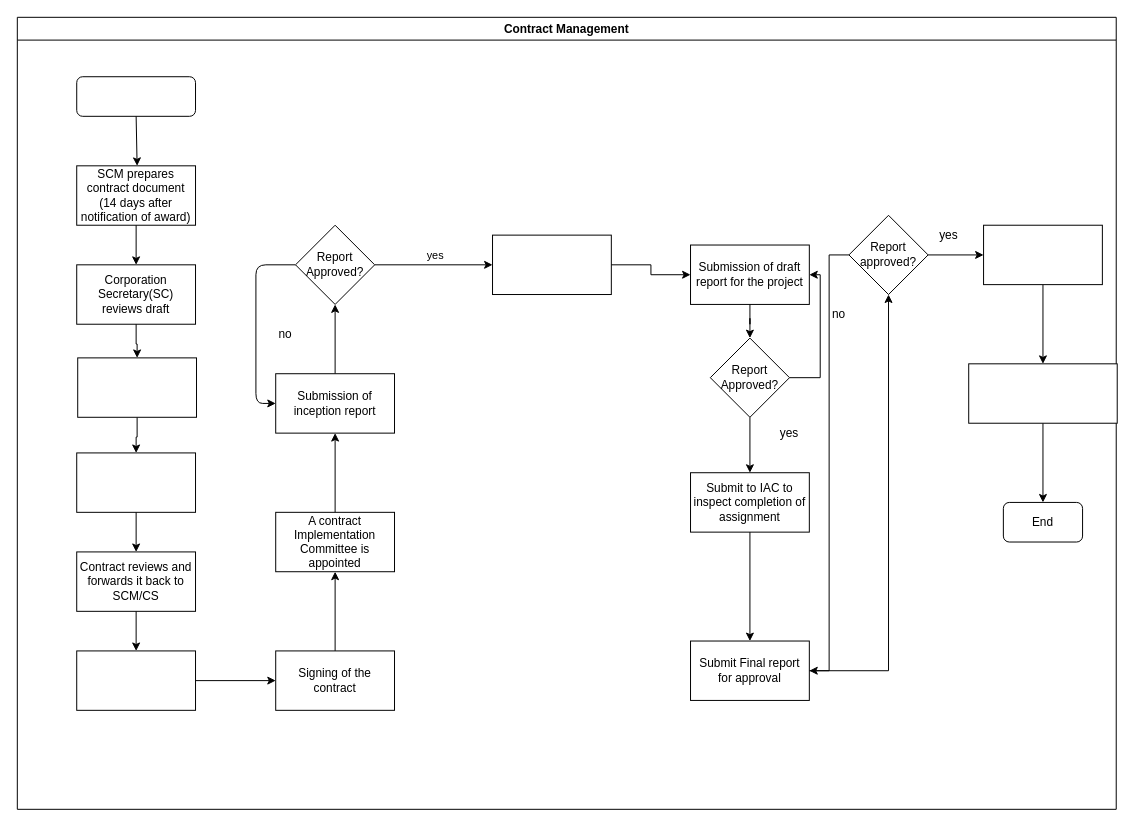
Image size: 1135x827. Some labels were removed from this diagram. The shapes that lost their labels are listed below. From the top down, each one's centre as x and y in pixels, then its label:
At (136,96): "Start".
At (551,264): "Approved report submitted to IAC to inspect completion of assignment".
At (1042,254): "Contract monitoring and performance evaluation".
At (137,387): "SCM amends contract in line with CS inputs".
At (1042,393): "Approved final report submitted to procurement together with invoice for payment".
At (136,482): "SCM forwards contract to consultant for review".
At (136,680): "CEO Approval".
